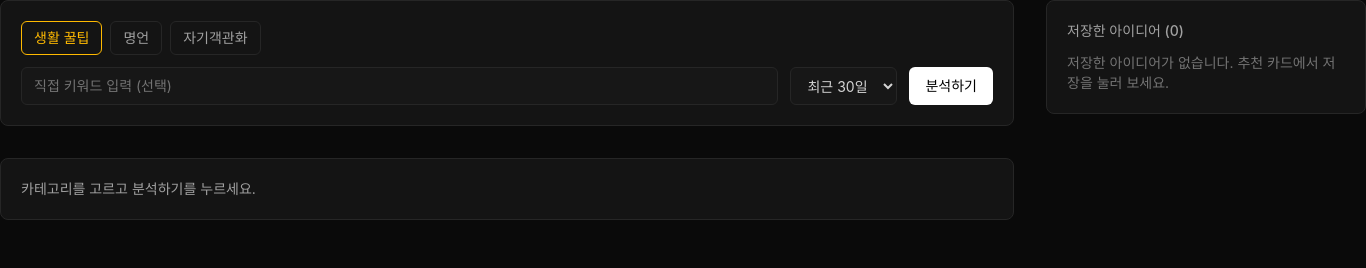
Scenario: Dashboard › 에러 › MISSING_API_KEY면 message와 .env.local 설정 안내를 보여 준다
This screenshot has width=1366, height=268.
Click the button "분석하기" at (951, 86), box [910,67,993,105]
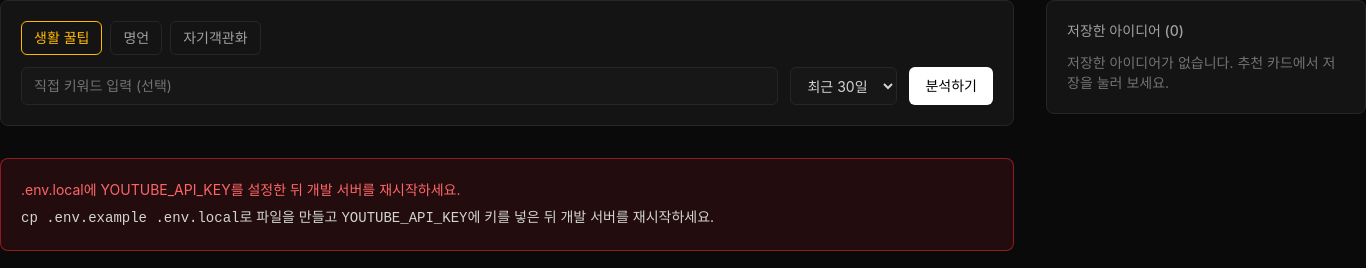
Expected: the message shows ".env.local에 YOUTUBE_API_KEY를 설정한 뒤 개발 서버를 재시작하세요.", [21,181,460,198]
Expected: the message shows "cp .env.example .env.local", [21,210,239,226]
Expected: the text "카테고리를 고르고 분석하기를 누르세요." is gone
